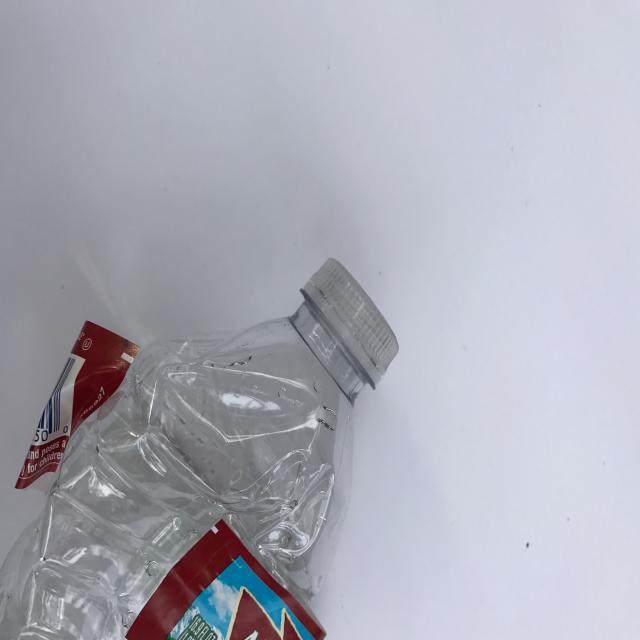plastic: (0, 255, 399, 640)
